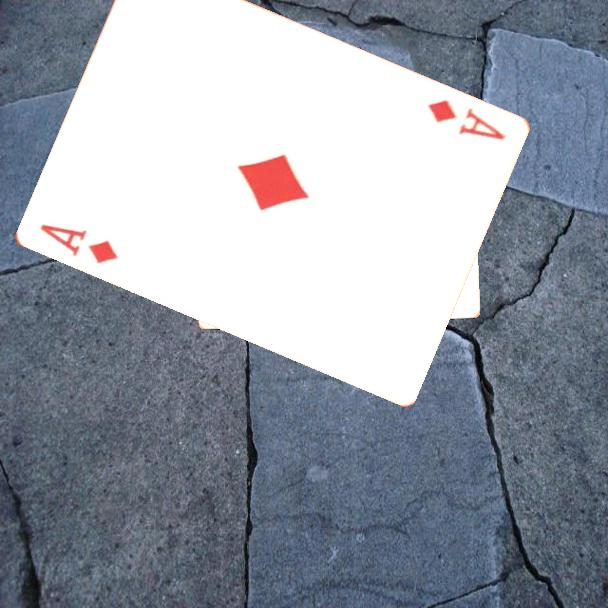d01: (423, 96, 508, 143), (36, 221, 121, 267)
